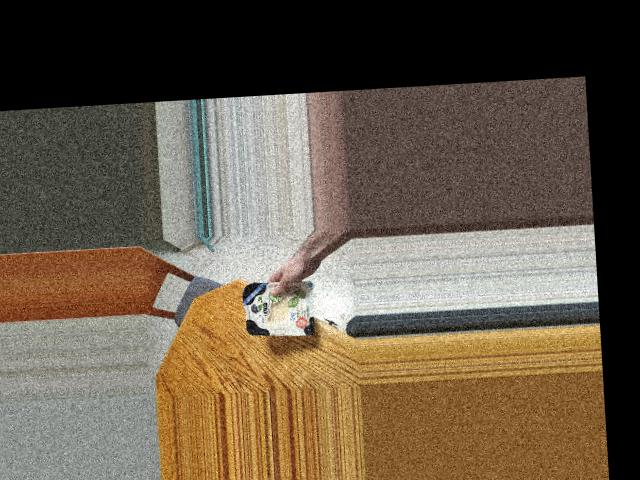cheese: (226, 276, 331, 339)
